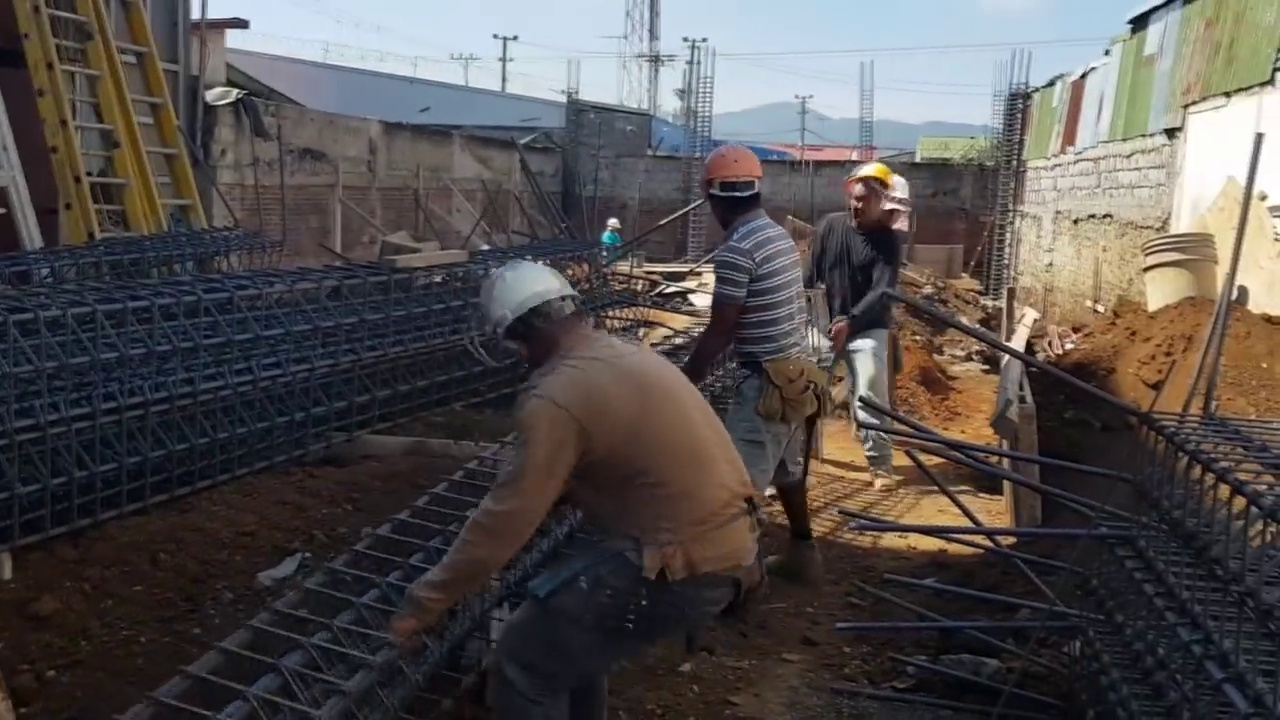helmet: (476, 260, 583, 342), (696, 141, 770, 190), (846, 161, 896, 188), (887, 175, 912, 201), (606, 217, 622, 229)
helmet-on: (473, 255, 595, 372), (695, 140, 770, 235), (846, 161, 896, 232), (878, 175, 913, 235), (604, 217, 622, 234)
person: (367, 255, 766, 718), (694, 141, 826, 573), (801, 159, 898, 485), (600, 218, 625, 256)
